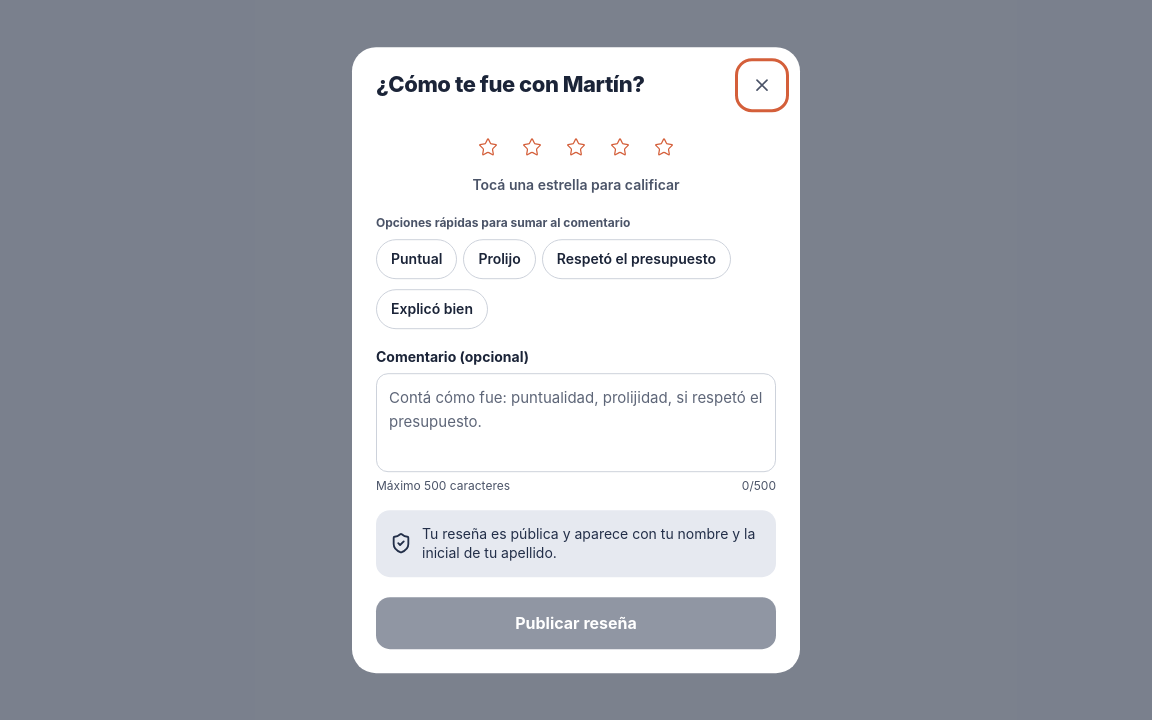
Test: HojaResena › permite seleccionar calificación con clic y actualiza la etiqueta visible
The width and height of the screenshot is (1152, 720).
Click the radio button named "Excelente".
click(664, 147)  # box [642, 125, 686, 169]
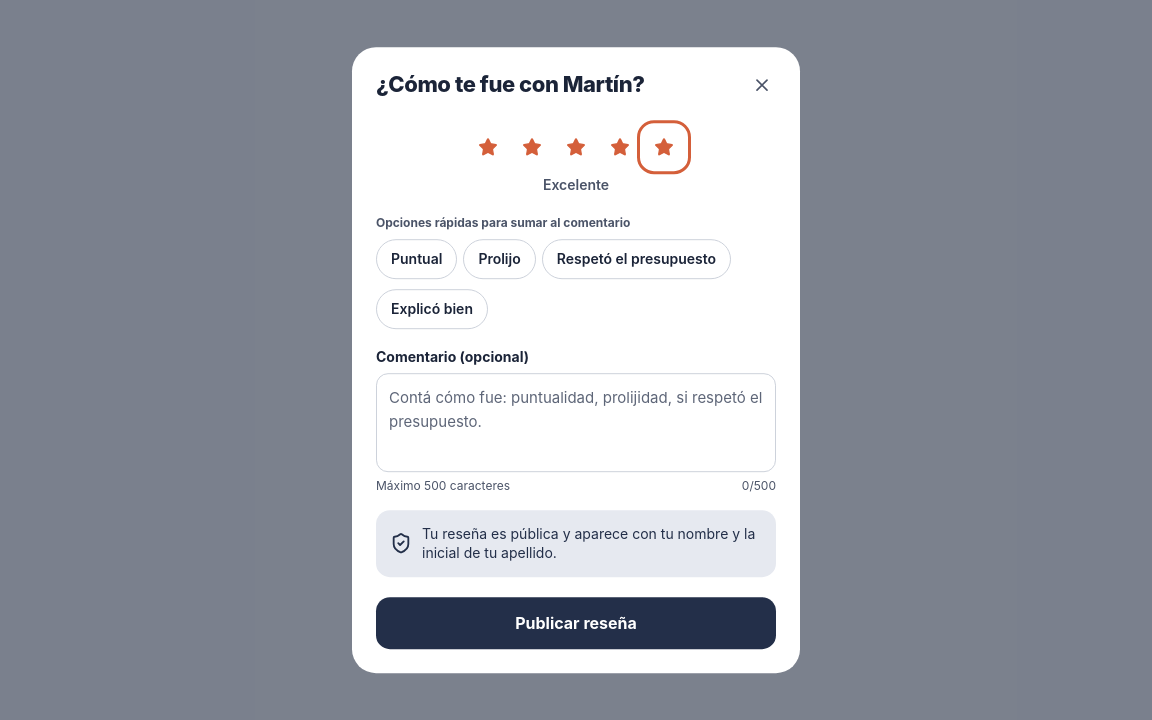
expect the radio button named "Excelente" is checked: met, box [642, 125, 686, 169]
expect the text "Excelente" is shown: met, box [543, 175, 609, 195]
expect the button "Publicar reseña" is enabled: met, box [376, 597, 776, 649]
